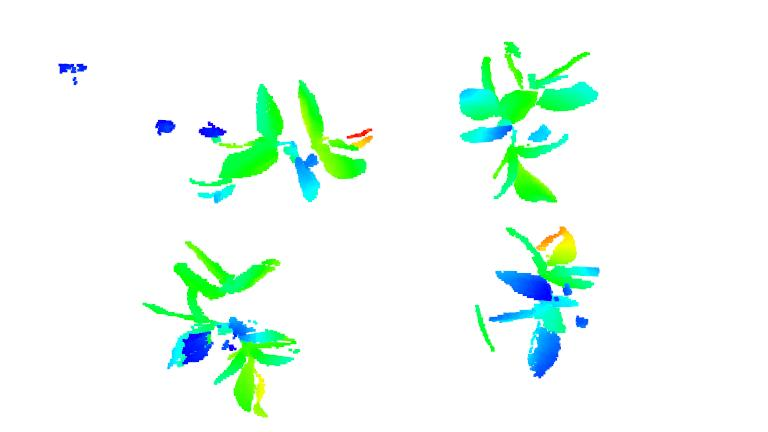mungbean: (139, 241, 311, 421), (453, 36, 605, 208), (205, 75, 377, 204), (485, 223, 601, 377)
